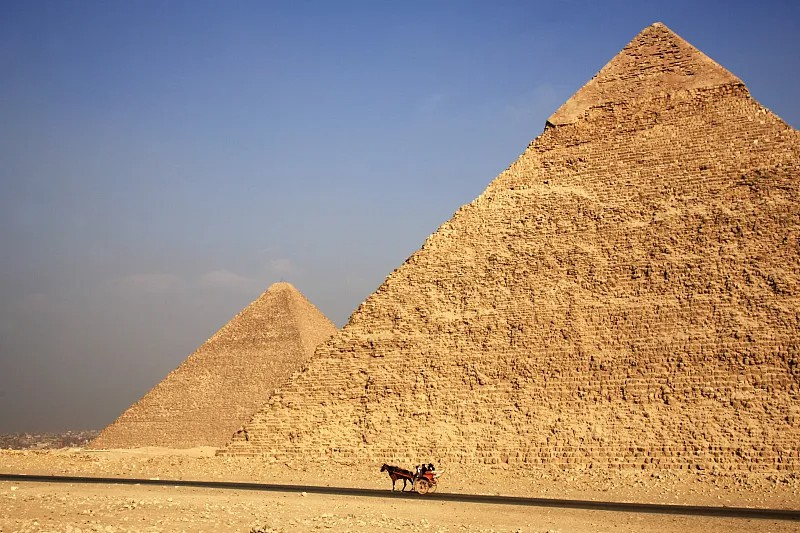Pyramid: (214, 21, 800, 464), (80, 279, 341, 450)
